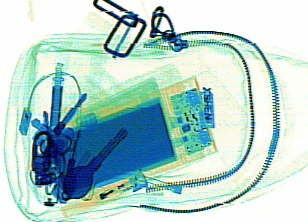lighter: (57, 170, 146, 216)
